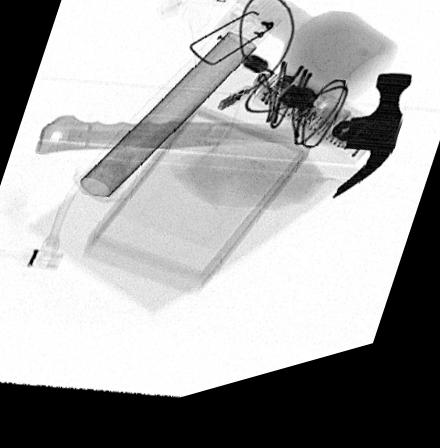Hammer: (34, 94, 413, 218)
